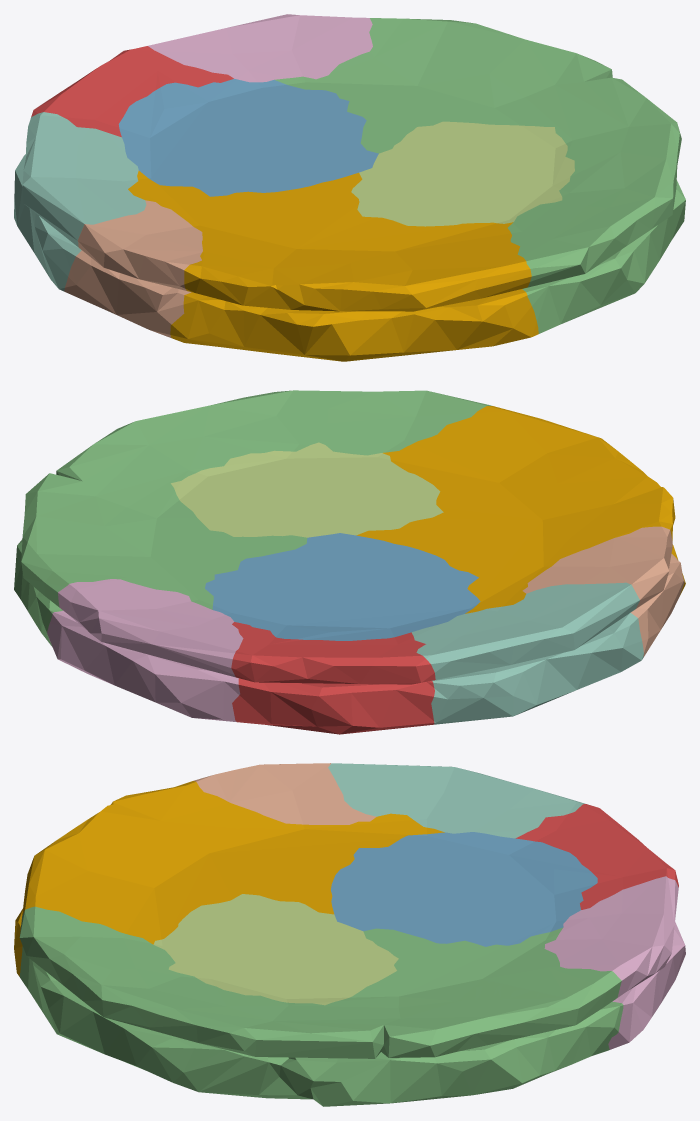
Rendered from mode_8_8pcs.glb.
3 views of the same model, one above another, from view 1: azimuth 30°, elevation 25°; view 2: azimuth 150°, elevation 25°; view 3: azimuth 270°, elevation 25° (orthographic).
Visible parts, largest first — view 1: piece_3.obj, piece_0.obj, piece_2.obj, piece_5.obj, piece_4.obj, piece_7.obj, piece_6.obj, piece_1.obj; view 2: piece_3.obj, piece_0.obj, piece_4.obj, piece_2.obj, piece_6.obj, piece_5.obj, piece_1.obj, piece_7.obj; view 3: piece_3.obj, piece_0.obj, piece_2.obj, piece_5.obj, piece_6.obj, piece_4.obj, piece_7.obj, piece_1.obj.
Boxes of the visible parts, bbox=[...] form: piece_3.obj: bbox=[274, 18, 685, 333]; piece_0.obj: bbox=[128, 170, 538, 361]; piece_2.obj: bbox=[118, 78, 378, 196]; piece_5.obj: bbox=[351, 121, 574, 226]; piece_4.obj: bbox=[14, 112, 146, 291]; piece_7.obj: bbox=[64, 200, 202, 337]; piece_6.obj: bbox=[148, 14, 372, 82]; piece_1.obj: bbox=[31, 46, 233, 137]; piece_3.obj: bbox=[14, 390, 491, 646]; piece_0.obj: bbox=[356, 406, 685, 613]; piece_4.obj: bbox=[411, 582, 643, 724]; piece_2.obj: bbox=[205, 533, 480, 640]; piece_6.obj: bbox=[47, 579, 243, 721]; piece_5.obj: bbox=[171, 442, 443, 537]; piece_1.obj: bbox=[231, 622, 435, 734]; piece_7.obj: bbox=[522, 526, 684, 656]; piece_3.obj: bbox=[19, 906, 623, 1106]; piece_0.obj: bbox=[14, 781, 444, 976]; piece_2.obj: bbox=[331, 832, 597, 946]; piece_5.obj: bbox=[153, 894, 398, 1005]; piece_6.obj: bbox=[544, 876, 685, 1049]; piece_4.obj: bbox=[328, 763, 585, 838]; piece_7.obj: bbox=[193, 763, 376, 824]; piece_1.obj: bbox=[515, 804, 678, 909].
Bounding box in the file's own units: 1 × 0.1467 × 0.9969.
